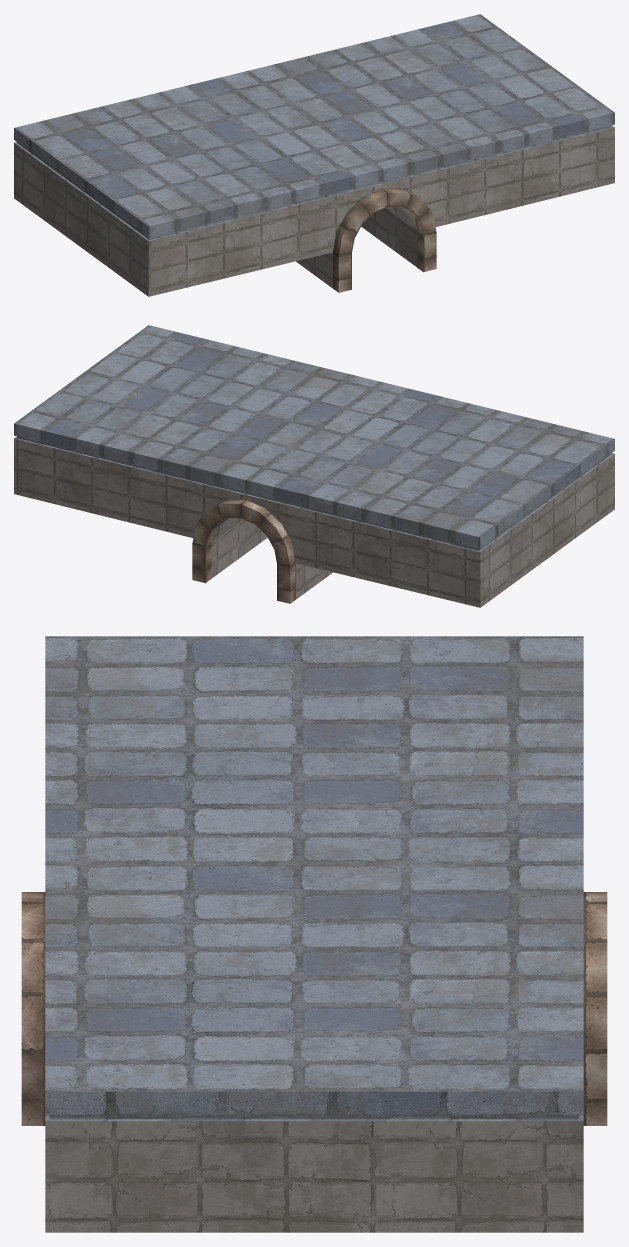
The model's file is SewerSet2_12mV1.fbx.
3 views of the same model, one above another, from view 1: azimuth 30°, elevation 25°; view 2: azimuth 150°, elevation 25°; view 3: azimuth 270°, elevation 25° (orthographic). The views are drawn at different scales.
Parts seen in each view (by area): view 1: Box092; view 2: Box092; view 3: Box092.
Part boxes in pixels (x1,y1,x2,y2): Box092: (14,14,614,296); Box092: (14,325,614,607); Box092: (21,636,607,1232).
Size of the model in its own units: 2500 by 549 by 1359.
